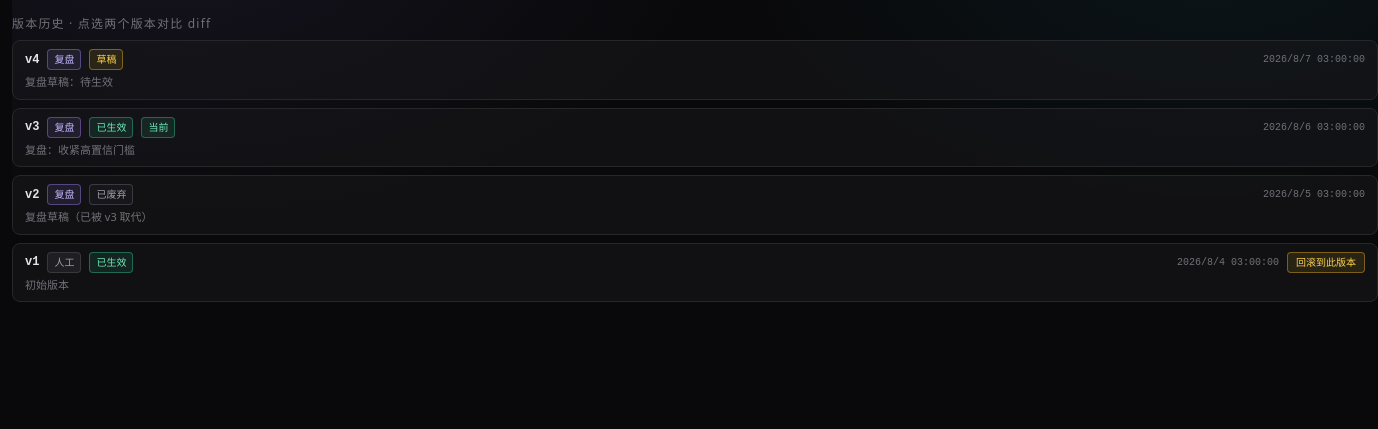
Test: ResearchPromptVersions(研报提示词版本历史) › 回滚确认：提示成功、刷新版本列表（新 applied 版本标当前）、通知宿主刷新提示词内容
Expected: the text "v1" is shown, [25,254,39,270]
Step 1. Click the button "回滚到此版本" → (1326, 262), box [1287,252,1365,272]
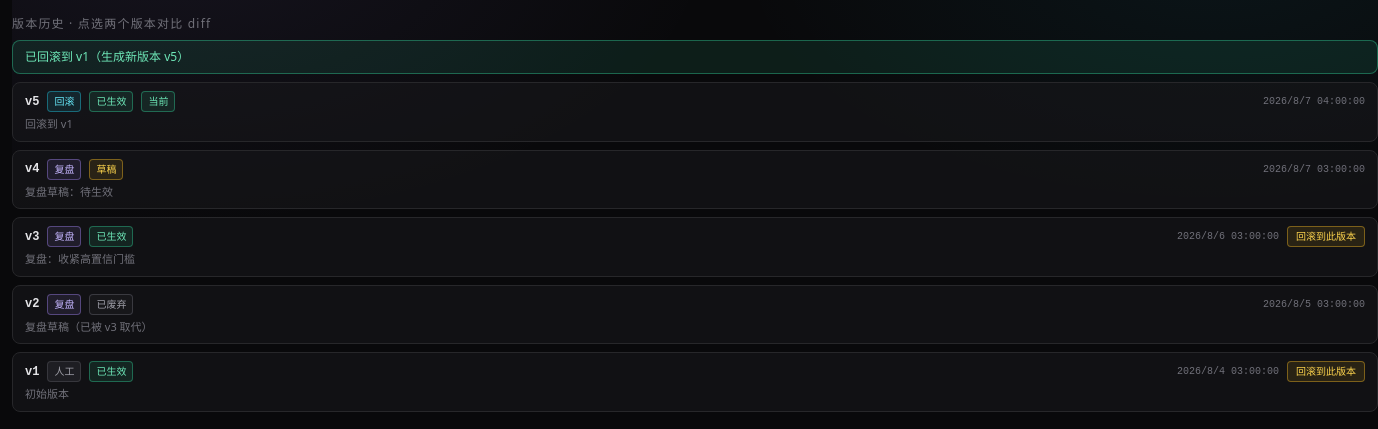
Now the text "已回滚到 v1（生成新版本 v5）" is shown, box [12,40,1377,74]
Now the text "v5" is shown, box [25,94,39,110]
Now the text "回滚" is shown, box [47,91,81,112]
